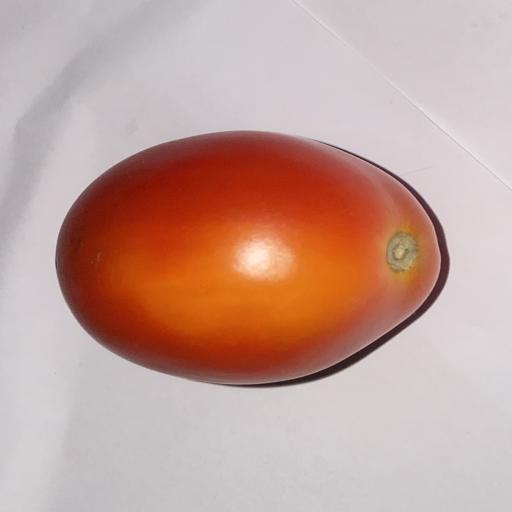ripe: (56, 131, 440, 383)
